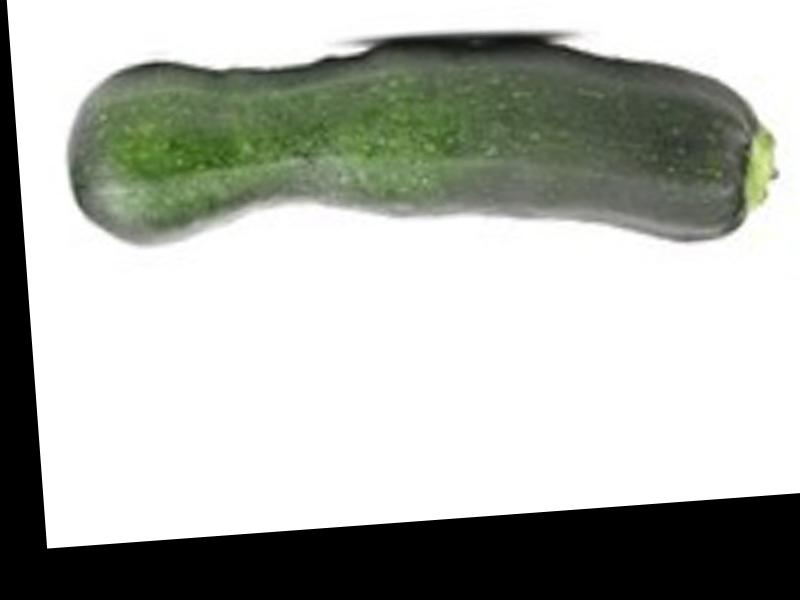Cucumber: (61, 15, 784, 288)
